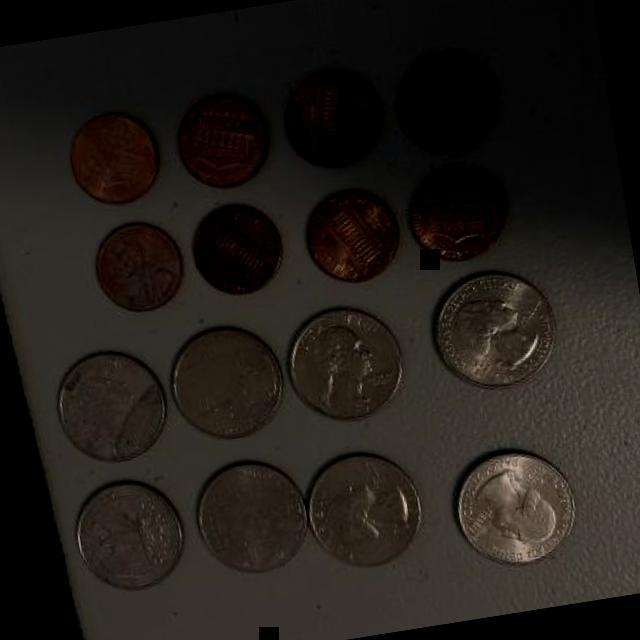Penny: (386, 42, 504, 164), (166, 80, 279, 196), (274, 60, 388, 174), (296, 182, 410, 294), (400, 156, 514, 268), (186, 193, 290, 304), (60, 104, 168, 210), (90, 215, 190, 322)
Quarter: (445, 432, 588, 578), (422, 260, 568, 402), (303, 443, 436, 589), (161, 312, 295, 449), (186, 452, 317, 588), (278, 298, 414, 429), (66, 471, 196, 599), (46, 342, 172, 472)
